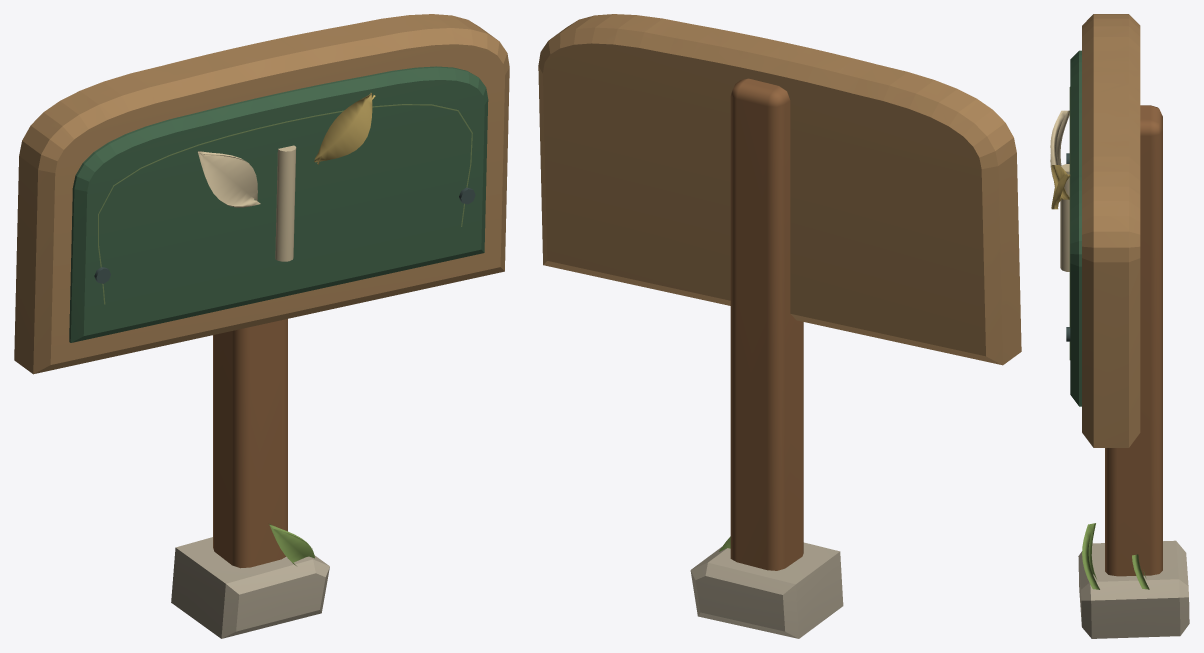
Rendered from letrero.glb.
3 views of the same model, side by side, from view 1: azimuth 30°, elevation 25°; view 2: azimuth 150°, elevation 25°; view 3: azimuth 270°, elevation 25° (orthographic). The views are drawn at different scales.
Parts seen in each view (by area): view 1: letrero; view 2: letrero; view 3: letrero.
Part boxes in pixels (x1=…): letrero: x1=14, y1=14, x2=509, y2=638; letrero: x1=538, y1=14, x2=1021, y2=638; letrero: x1=1050, y1=14, x2=1189, y2=638.
Bounding box in the file's own units: 1.23 × 1.4 × 0.3358.
